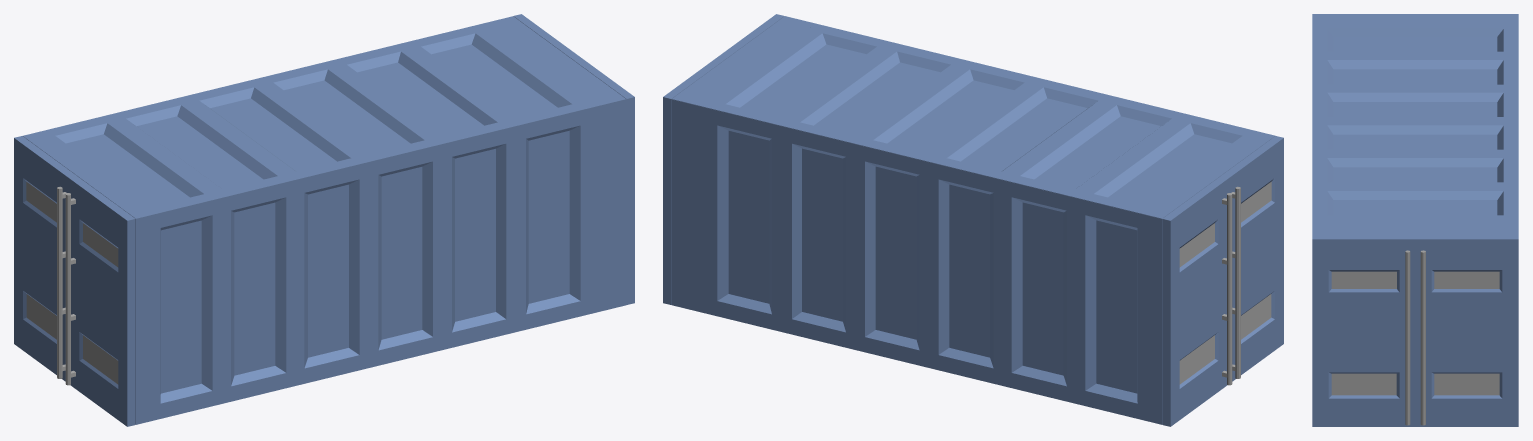
File: Container.fbx
3 views of the same model, side by side, from view 1: azimuth 30°, elevation 25°; view 2: azimuth 150°, elevation 25°; view 3: azimuth 270°, elevation 25° (orthographic). The views are drawn at different scales.
Visible parts, largest first — view 1: pCube5, polySurface11, polySurface12, polySurface10; view 2: pCube5, polySurface12, polySurface11, polySurface9; view 3: pCube5, polySurface10, polySurface9, polySurface11, polySurface12.
Part boxes in pixels (x1,y1,x2,y2): pCube5: [23, 16, 626, 424]; polySurface11: [65, 177, 135, 426]; polySurface12: [14, 136, 78, 381]; polySurface10: [570, 55, 634, 304]; pCube5: [671, 16, 1275, 424]; polySurface12: [1162, 177, 1232, 426]; polySurface11: [1219, 136, 1283, 381]; polySurface9: [663, 55, 727, 304]; pCube5: [1312, 17, 1518, 235]; polySurface10: [1312, 235, 1415, 426]; polySurface9: [1415, 235, 1518, 426]; polySurface11: [1312, 14, 1415, 17]; polySurface12: [1415, 14, 1518, 17].
Bounding box in the file's own units: 10.72 × 4.02 × 4.01.
